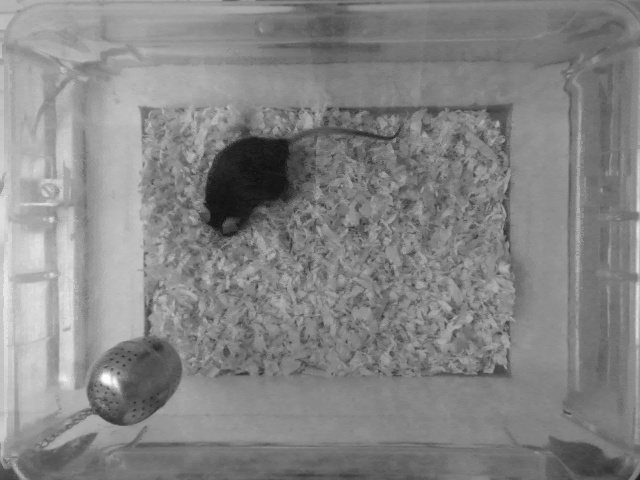mice: (195, 117, 407, 239)
